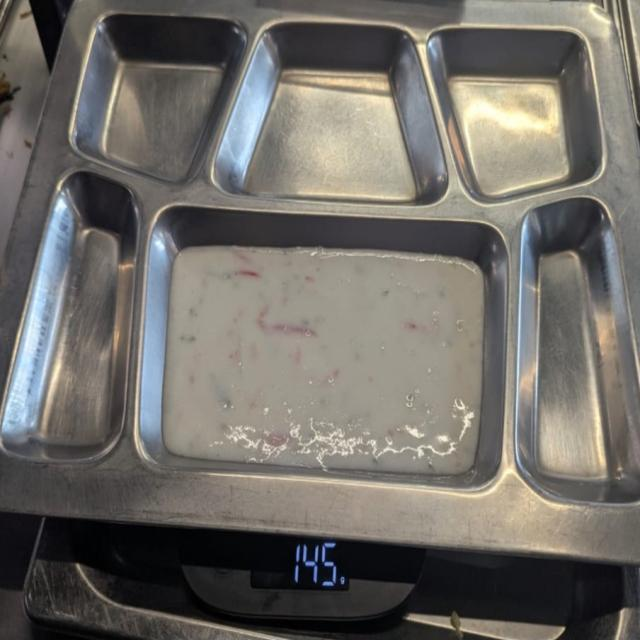Raita: (175, 254, 472, 458)
